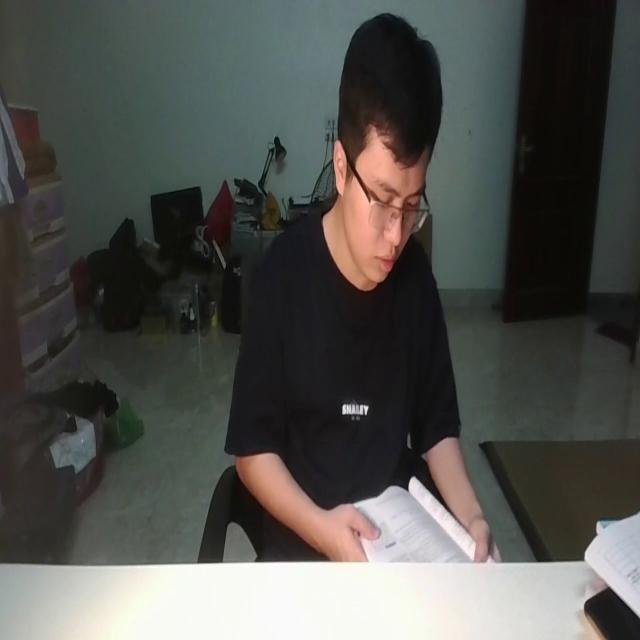book: (346, 476, 498, 564)
student: (226, 4, 504, 564)
